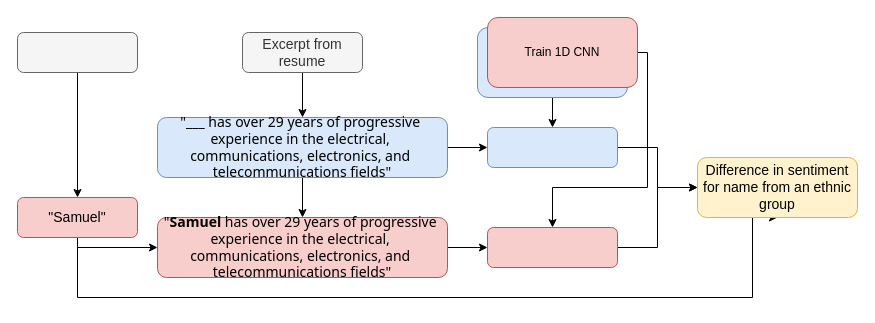
The diagram is 875 pixels wide and 323 high, and some of its shapes have lost their labels. The centre of each missing label's shape, as x and y in pixels:
Name to test: point (77, 52)
Sentiment score: point (552, 247)
Sentiment score baseline: point (552, 147)
